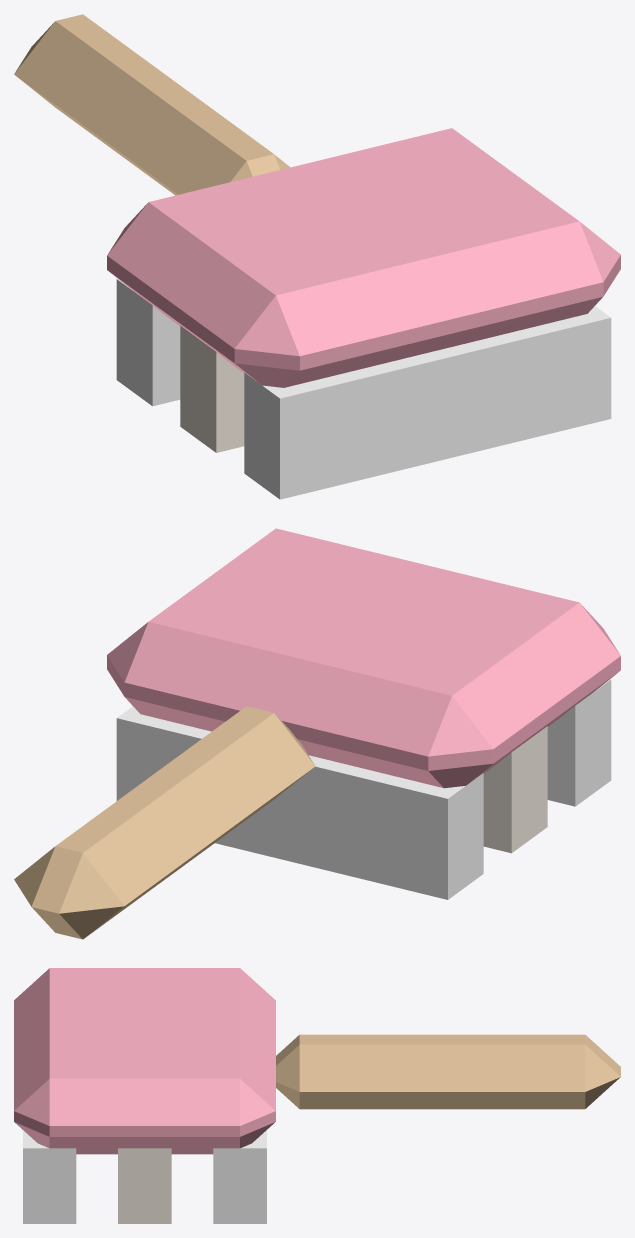
File: CleanACat_Tool_Brush.fbx
The picture shows the model from 3 angles, top to bottom: view 1: azimuth 30°, elevation 25°; view 2: azimuth 150°, elevation 25°; view 3: azimuth 270°, elevation 25°; orthographic projection. The views are drawn at different scales.
Visible parts, largest first — view 1: CleanACat_Tool_Brush; view 2: CleanACat_Tool_Brush; view 3: CleanACat_Tool_Brush.
Part boxes in pixels (box(x1,y1,x2,y2)): CleanACat_Tool_Brush: box(14, 14, 620, 499); CleanACat_Tool_Brush: box(14, 528, 620, 939); CleanACat_Tool_Brush: box(14, 968, 620, 1223).
Size of the model in its own units: 0.56 by 0.26 by 1.02.
1 material, 1 textured.
